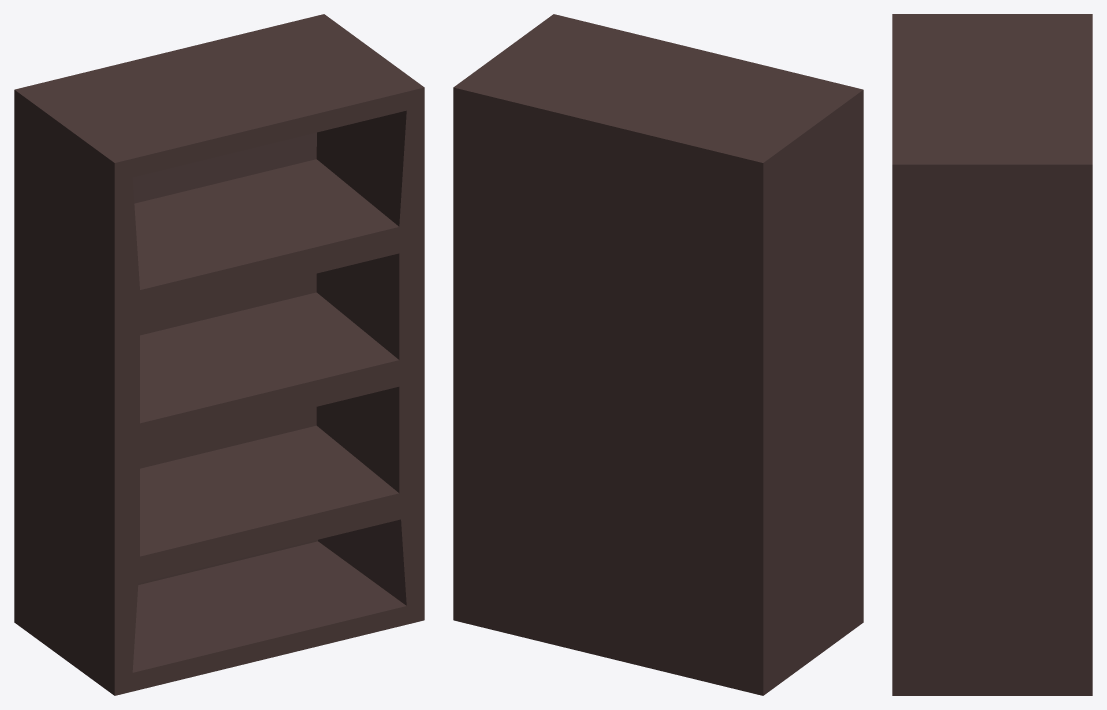
Rendered from shelf.fbx.
The picture shows the model from 3 angles, left to right: view 1: azimuth 30°, elevation 25°; view 2: azimuth 150°, elevation 25°; view 3: azimuth 270°, elevation 25°; orthographic projection.
Parts seen in each view (by area): view 1: Cube; view 2: Cube; view 3: Cube.
Boxes of the visible parts, <box> form: Cube: <box>14,14,424,695</box>; Cube: <box>453,14,863,695</box>; Cube: <box>892,14,1092,695</box>.
Size of the model in its own units: 122 by 201 by 68.62.
